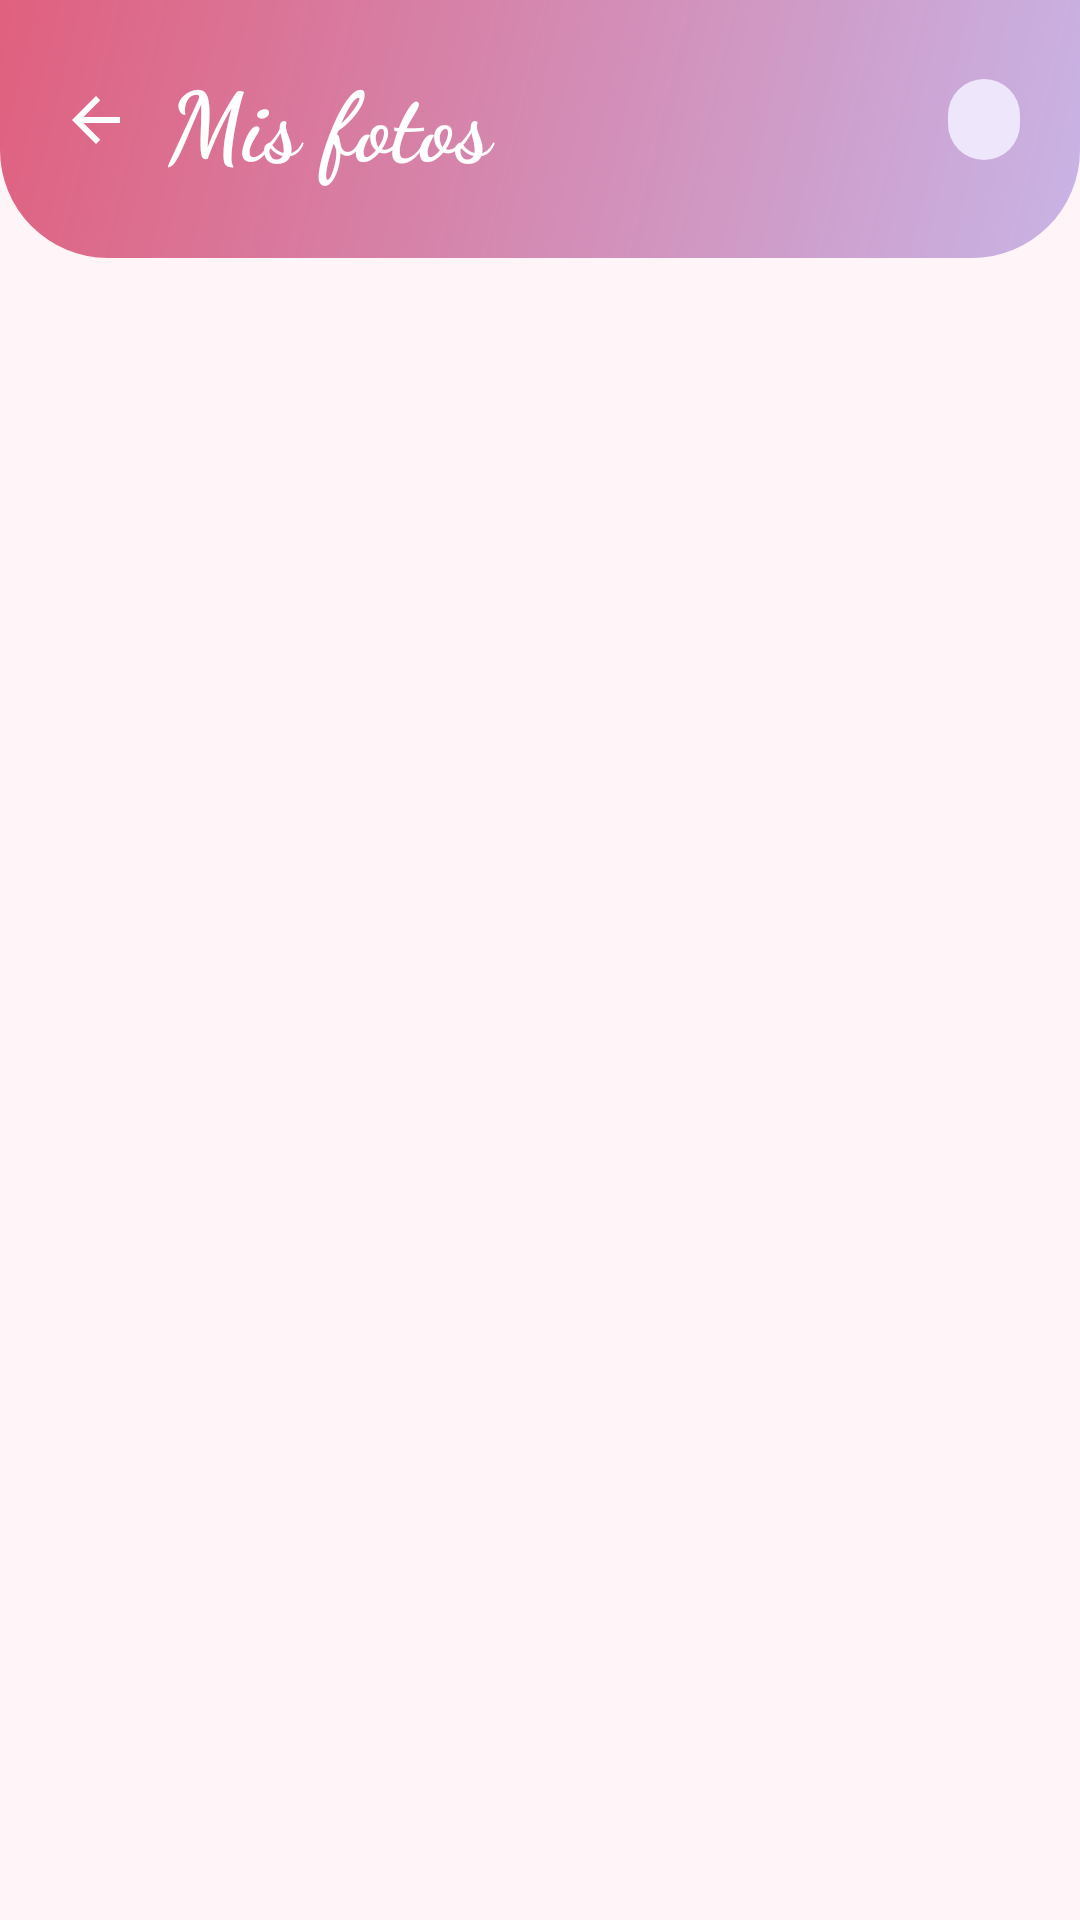

Where icons sit on this 1080x1920 app screen, as (x1, y1, x2, y2):
atras: (72, 96, 120, 144)
